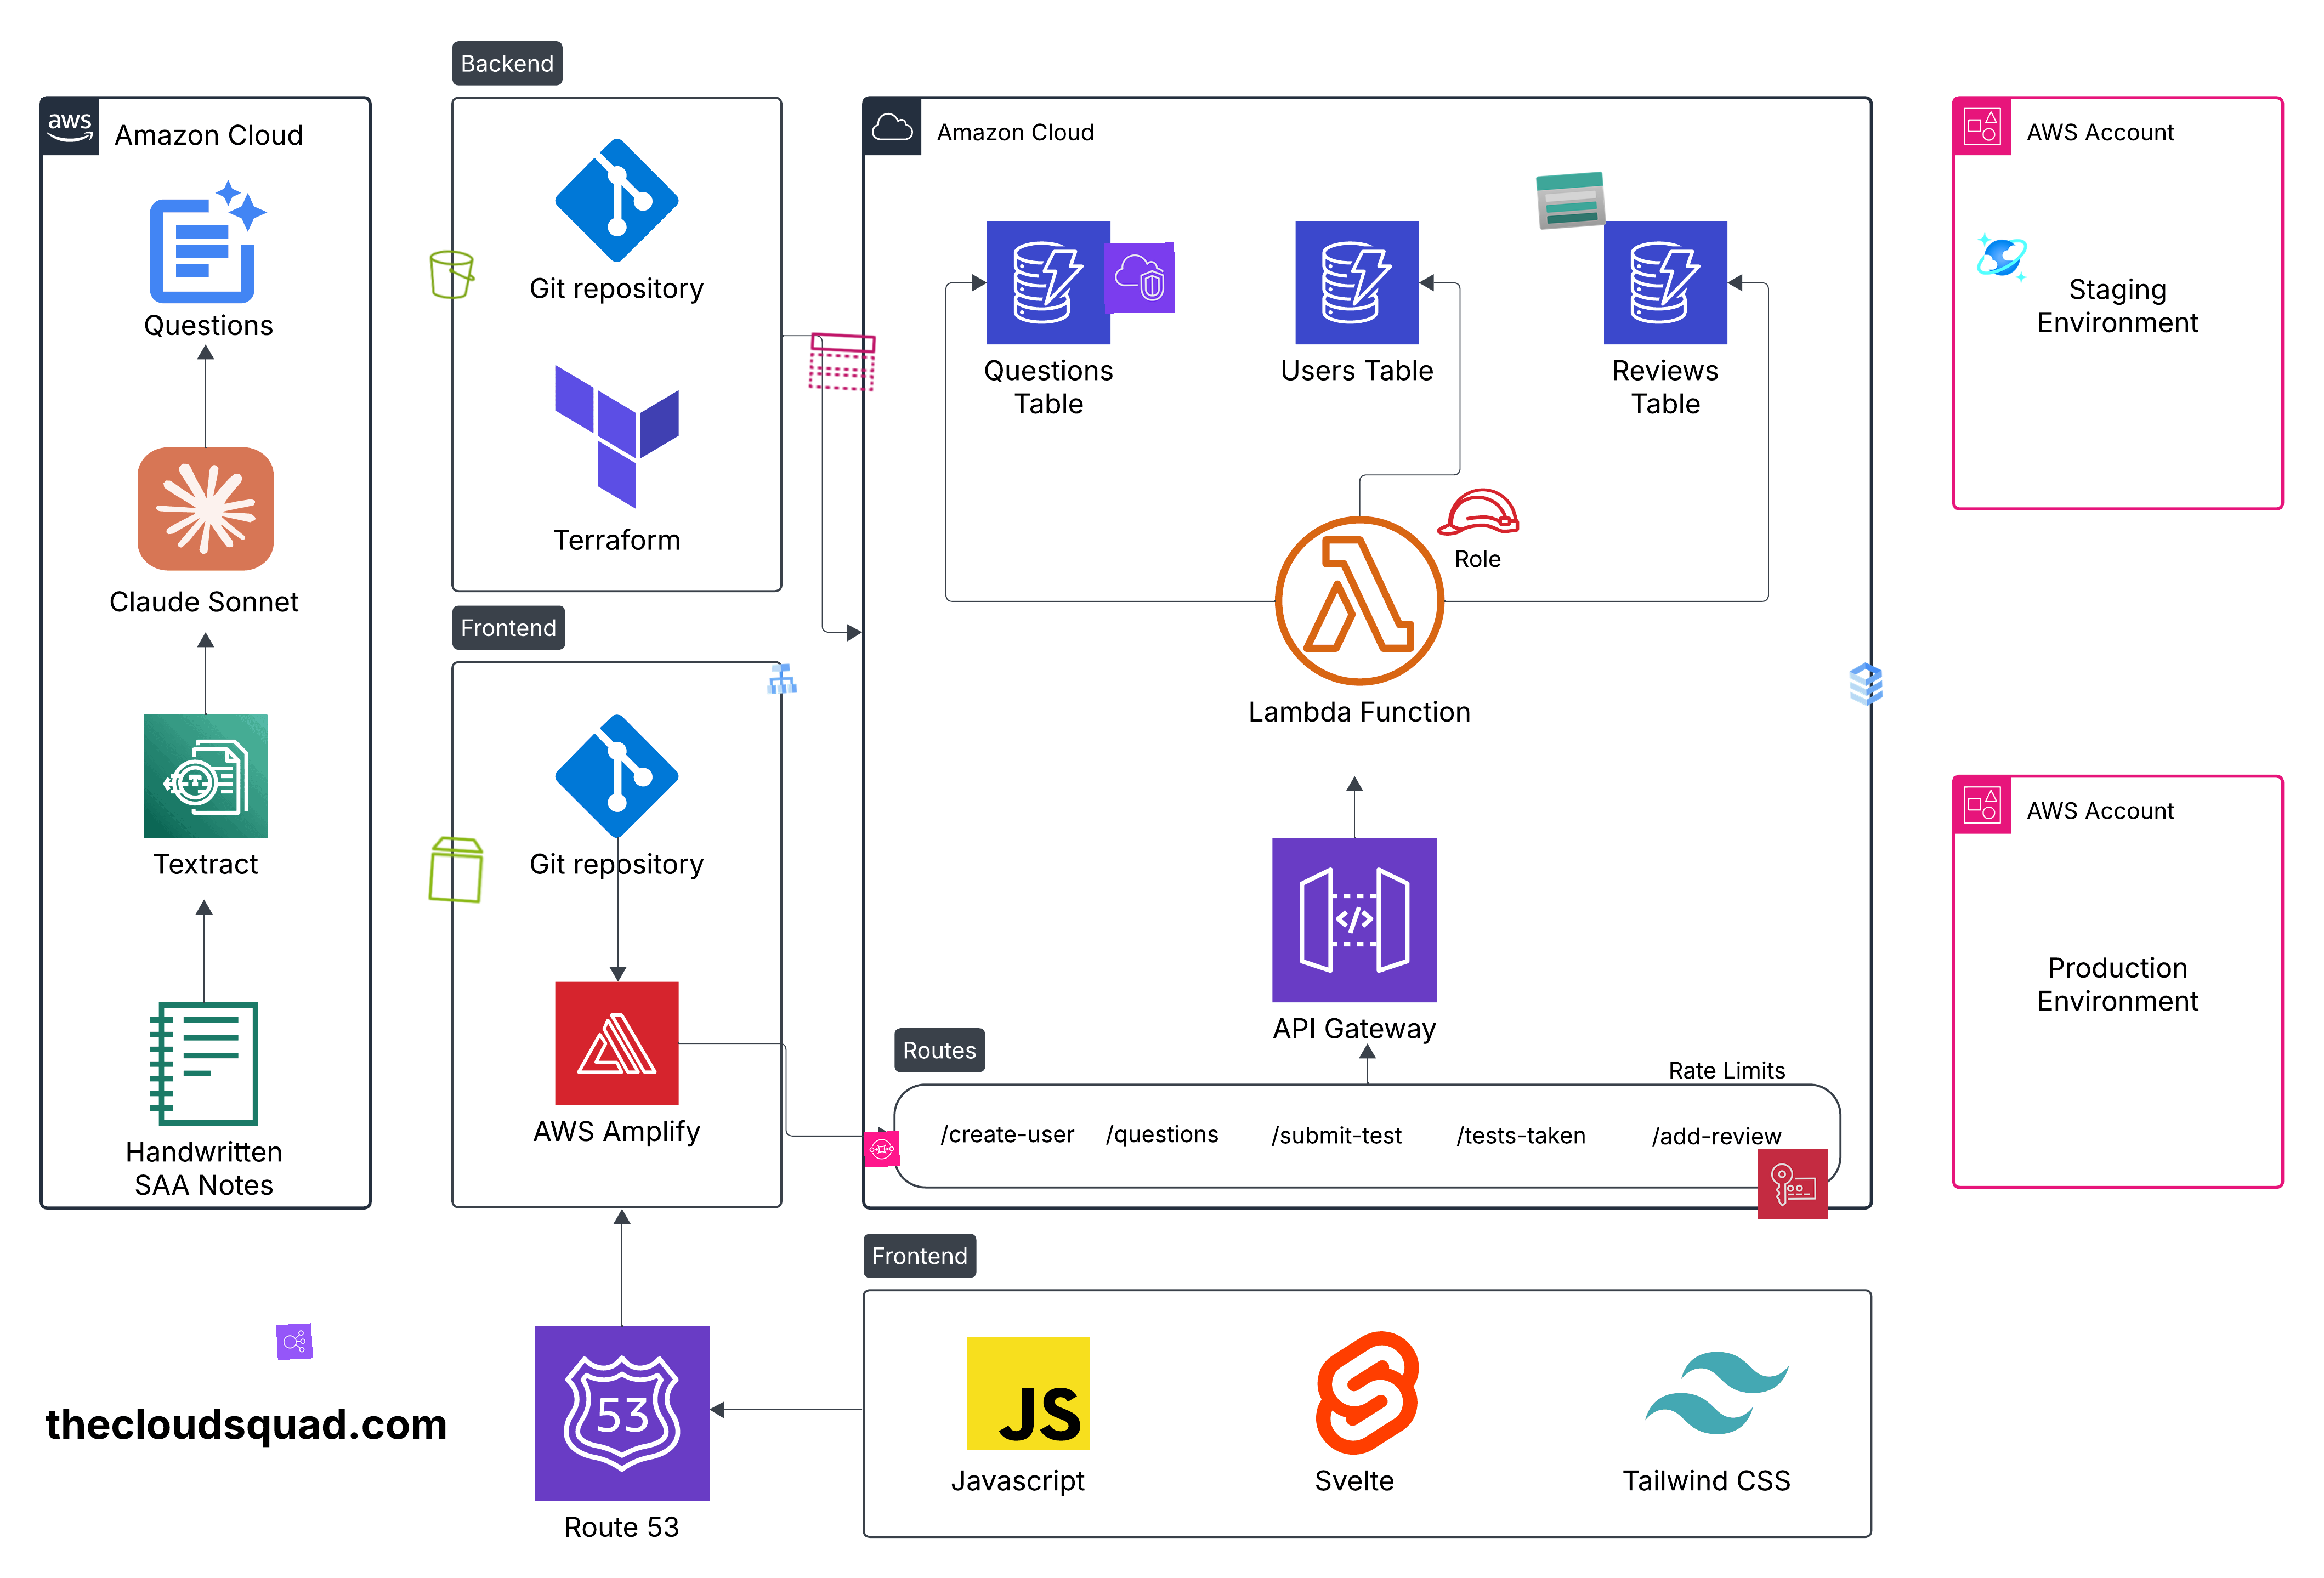aws_amazon_simple_queue_service: (863, 1131, 900, 1168)
aws_amazon_virtual_private_cloud: (1104, 243, 1174, 313)
aws_elastic_block_store_volume: (419, 831, 495, 907)
aws_elastic_load_balancing: (276, 1323, 313, 1360)
aws_key_management_service: (1757, 1148, 1829, 1220)
aws_simple_notification_service_topic: (805, 324, 880, 400)
aws_simple_storage_service_s3_standard: (424, 247, 481, 303)
azure_cosmos_db: (1975, 231, 2028, 285)
azure_storage_accounts: (1533, 162, 1609, 238)
gcp_cloud_load_balancing: (762, 660, 799, 697)
gcp_cloud_sql: (1838, 657, 1893, 712)
